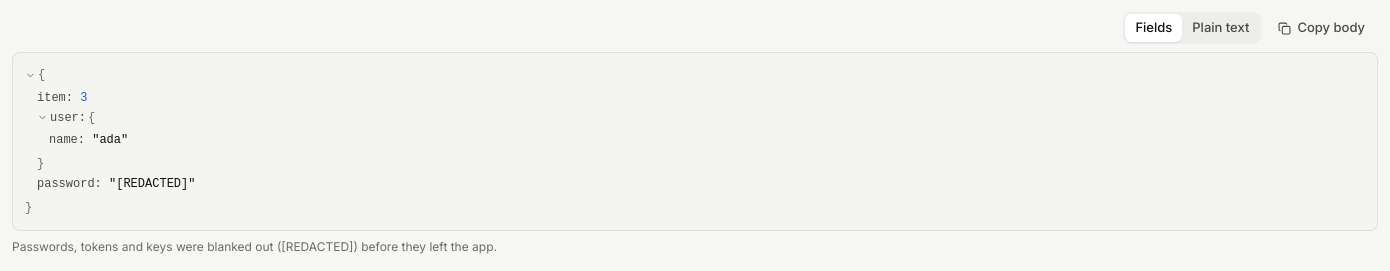
Test case: RequestBody › shows JSON and forms as fields, with a plain-text view and a copy button
Check: the text "item:" is shown, box [37,90,80,104]
Check: the text "name:" is shown, box [49,133,92,147]
What coordinates should you click on to do the following:
click the radio button labelled "Plain text"
I would click on:
 (1221, 28)
Its box is [1182,14,1259,42].
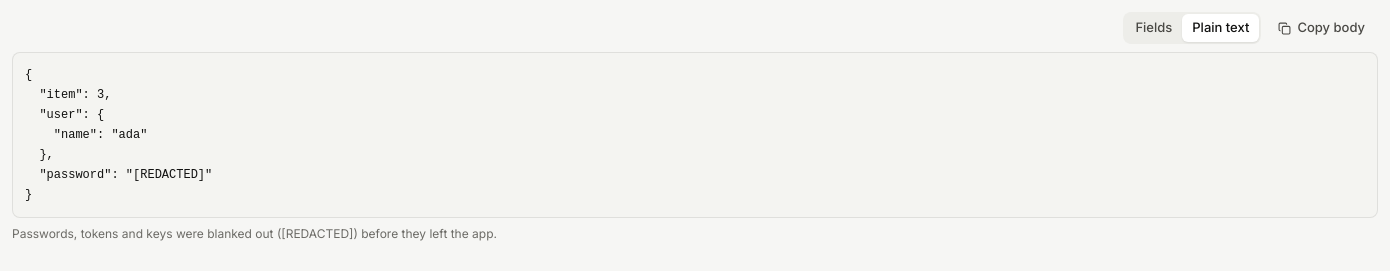
Check: the text "\"name\": \"ada\"" is shown, box [25,68,212,202]
